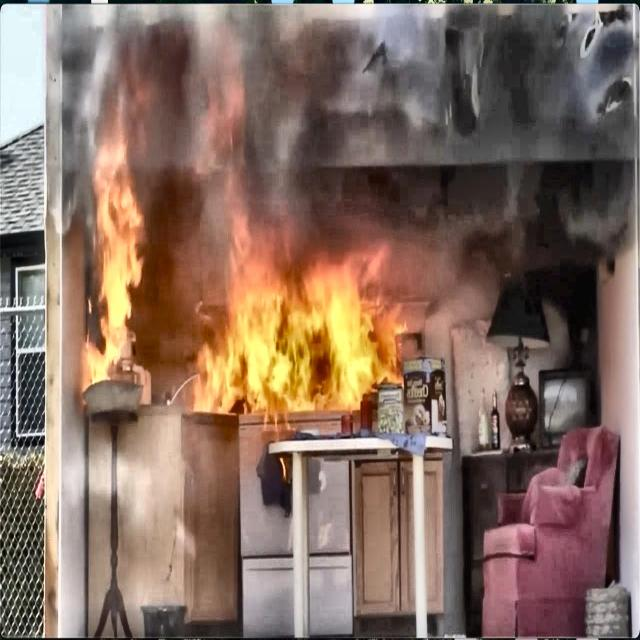fire: (75, 206, 427, 454)
